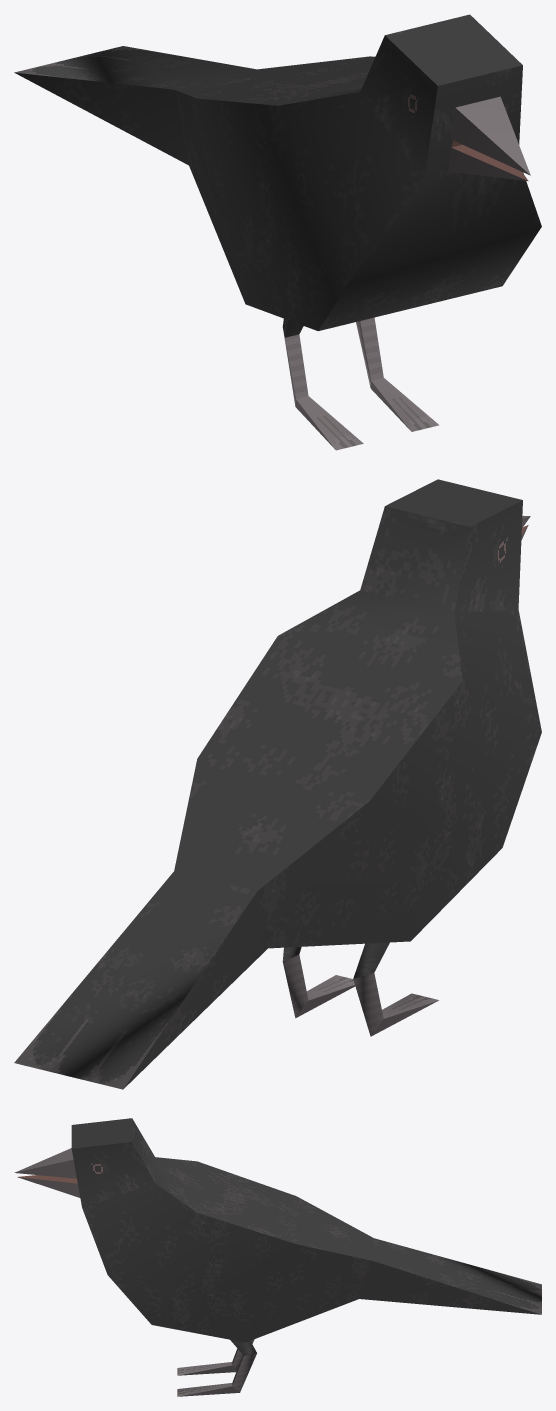
File: 020c_Crow.glb
3 views of the same model, one above another, from view 1: azimuth 30°, elevation 25°; view 2: azimuth 150°, elevation 25°; view 3: azimuth 270°, elevation 25° (orthographic). The views are drawn at different scales.
Parts seen in each view (by area): view 1: part_0; view 2: part_0; view 3: part_0.
Boxes of the visible parts, <box> form: part_0: <box>14,14,541,450</box>; part_0: <box>14,479,541,1089</box>; part_0: <box>14,1118,541,1396</box>.
Size of the model in its own units: 0.1358 by 0.3081 by 0.5841.
1 material, 1 textured.
